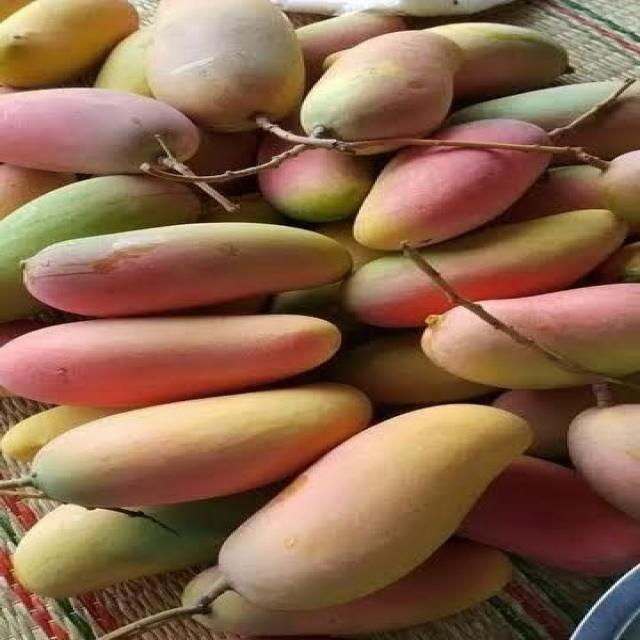mango: (219, 405, 531, 611), (32, 383, 371, 506), (0, 315, 341, 407), (25, 222, 351, 316), (196, 540, 511, 635), (13, 487, 279, 598), (0, 175, 200, 321), (459, 456, 639, 575), (148, 0, 303, 131), (354, 147, 549, 249), (301, 31, 462, 153), (422, 211, 627, 300), (0, 88, 199, 174), (480, 284, 639, 376), (0, 0, 138, 88), (331, 332, 492, 405), (429, 23, 568, 101), (258, 150, 375, 222), (452, 82, 620, 130), (569, 404, 639, 519), (297, 13, 407, 86), (493, 388, 595, 459), (493, 388, 595, 458), (0, 406, 124, 461), (496, 166, 609, 222), (271, 282, 359, 332), (272, 282, 359, 331), (0, 165, 76, 218), (95, 27, 152, 97), (315, 221, 387, 270), (600, 151, 639, 234), (189, 130, 259, 175), (200, 194, 289, 225), (592, 243, 639, 283), (203, 296, 270, 315), (0, 320, 44, 347), (0, 320, 44, 346), (0, 0, 33, 20), (0, 85, 23, 94)
